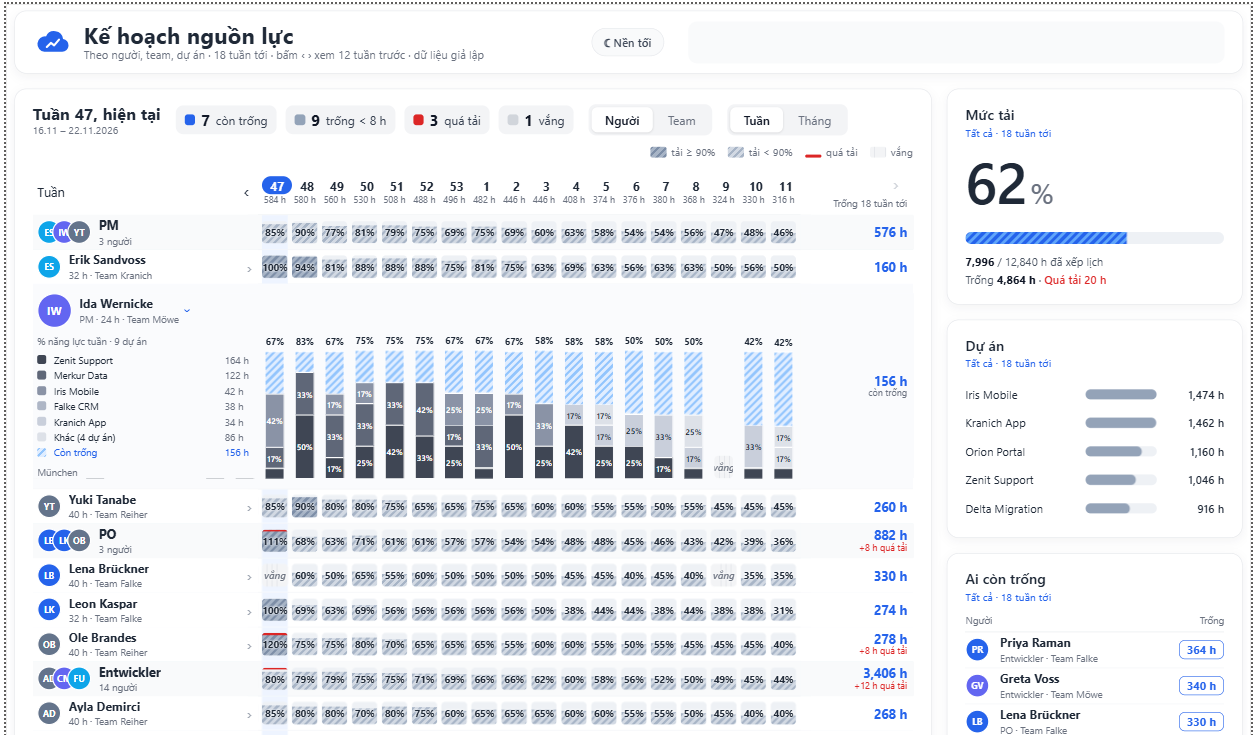

The page's visual inventory and layout, read from the dashboard file:
{"tool":"powerbi","page":{"name":"Page 1","canvas":[1660,1720],"ordinal":0},"visuals":[{"type":"htmlContent443BE3AD55E043BF878BED274D3A6855","fields":{"content":["_Measure.HTML Ressourcenplanung"]},"box":[0,0,1660,1720],"z":0}]}

Visuals, with their boxes on the page's 1660x1720 design canvas (x1, y1, x2, y2). These are canvas units, not pixel positions in the 1257x735 screenshot, which may show the page scaled, cropped or inside an application window:
htmlContent443BE3AD55E043BF878BED274D3A6855 - _Measure.HTML Ressourcenplanung: [left=0, top=0, right=1660, bottom=1720]
